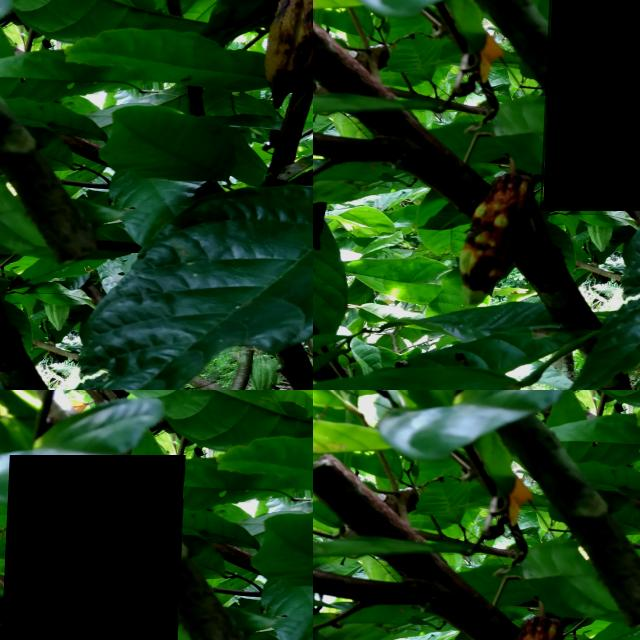Fitoftora: (543, 0, 640, 210)
Monilia: (2, 455, 186, 640)
